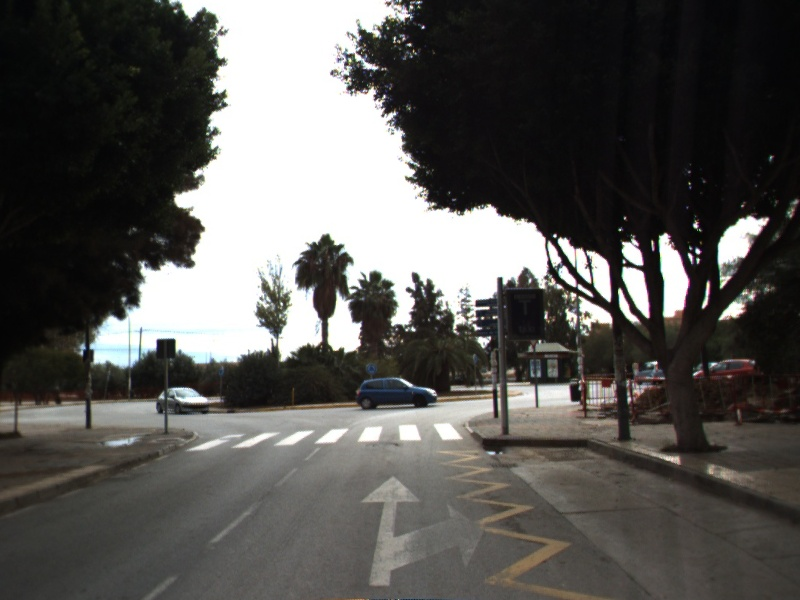STRAIGHT_RIGHT: (356, 471, 489, 589)
